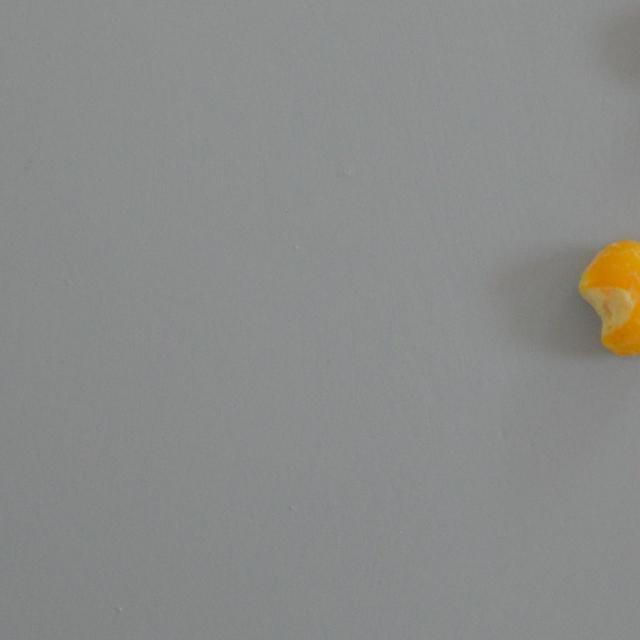no_desgerminado: (576, 234, 640, 357)
